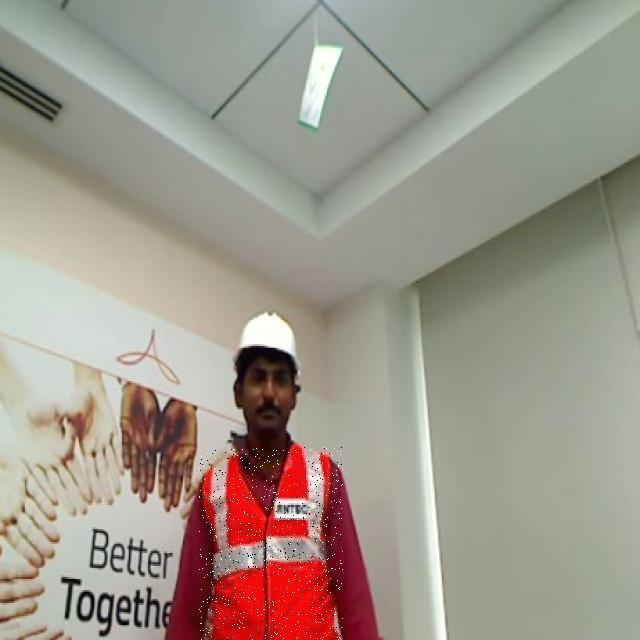helmet: (223, 297, 307, 383)
vest: (199, 447, 343, 640)
